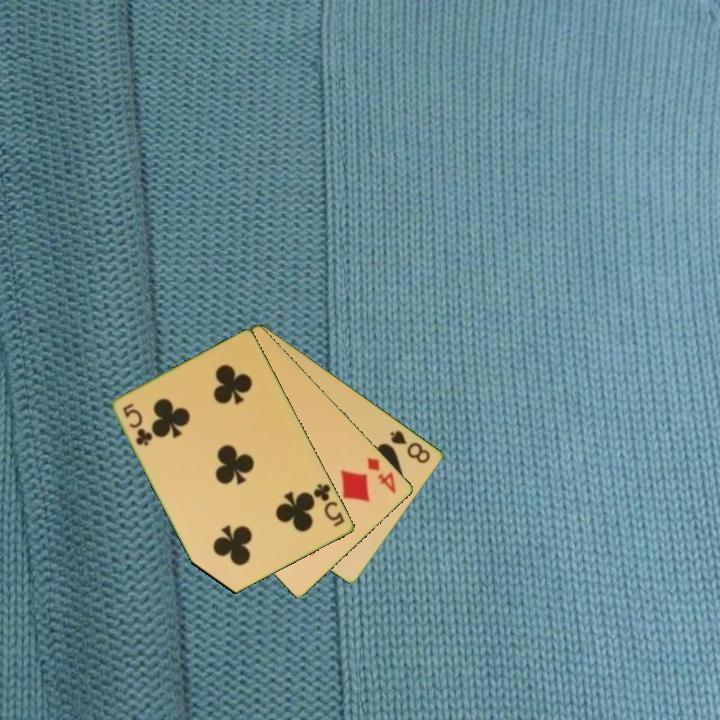4d: (364, 454, 400, 497)
5c: (310, 480, 348, 530), (120, 400, 156, 449)
8s: (387, 426, 434, 467)
